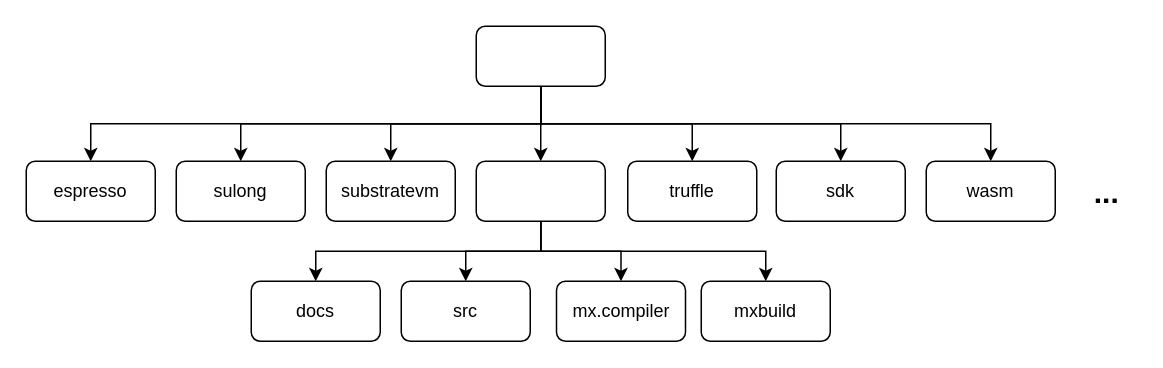
Some shapes in this 1163 by 368 pixel diagram are drawn without their labels. The shapes that lost their labels are listed below. From the top down, each one's box as (x1, y1, x2, y2) in pixels, then its label:
(475, 25, 605, 86): Graal
(475, 160, 605, 221): compiler
